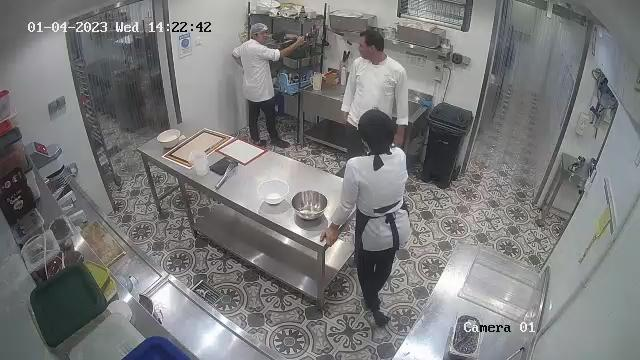apron: (356, 190, 413, 233)
no_apron: (347, 60, 402, 120)
